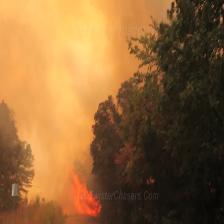fire: (55, 154, 136, 224)
smoke: (0, 4, 200, 154)
